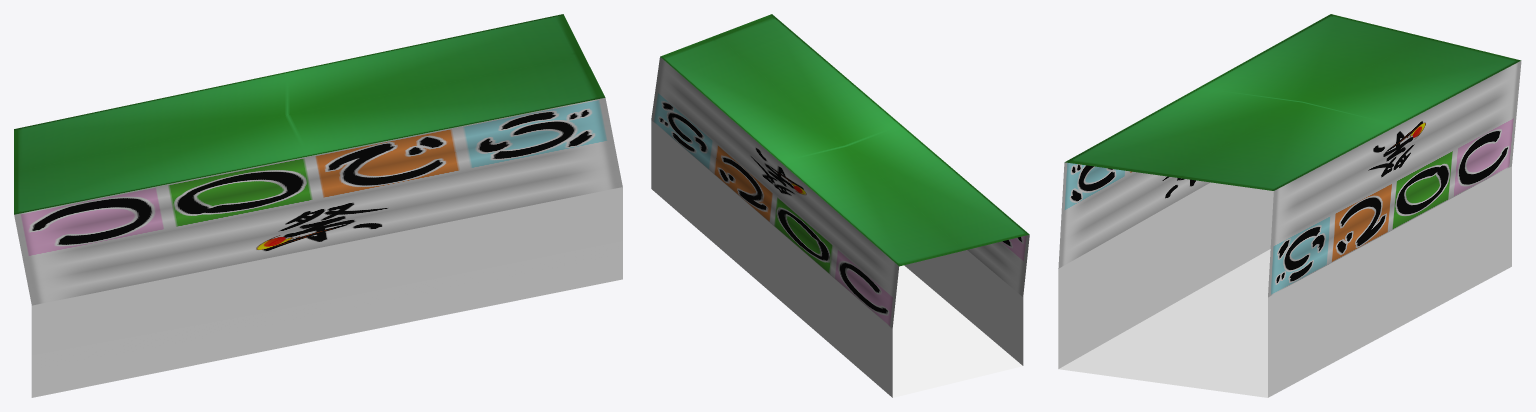
File: CourseWinter_Wall_L_17_10.fbx
The picture shows the model from 3 angles, left to right: view 1: azimuth 30°, elevation 25°; view 2: azimuth 150°, elevation 25°; view 3: azimuth 270°, elevation 25°; orthographic projection. The views are drawn at different scales.
Parts seen in each view (by area): view 1: polySurface615; view 2: polySurface615; view 3: polySurface615.
Part boxes in pixels (<box>): polySurface615: <box>14,14,622,397</box>; polySurface615: <box>651,14,1029,397</box>; polySurface615: <box>1058,14,1521,397</box>.
Bounding box in the file's own units: 6.1 × 2.98 × 4.18.
Materials: 1 (1 with a texture image).
